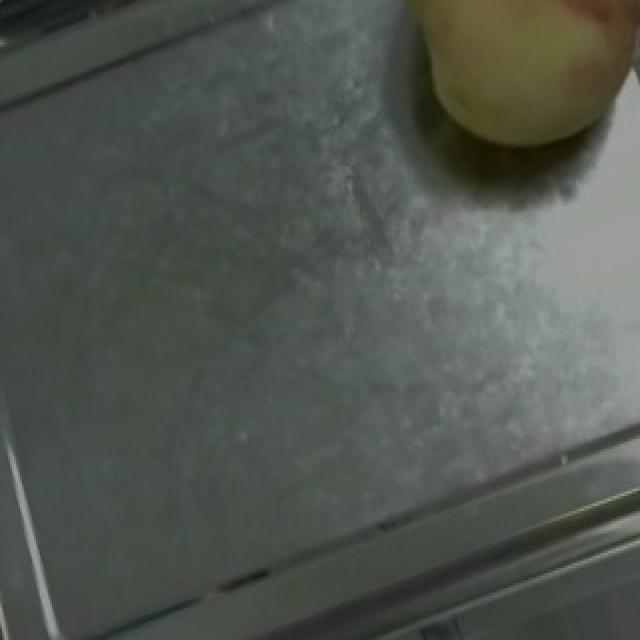Fruit: (362, 0, 640, 181)
